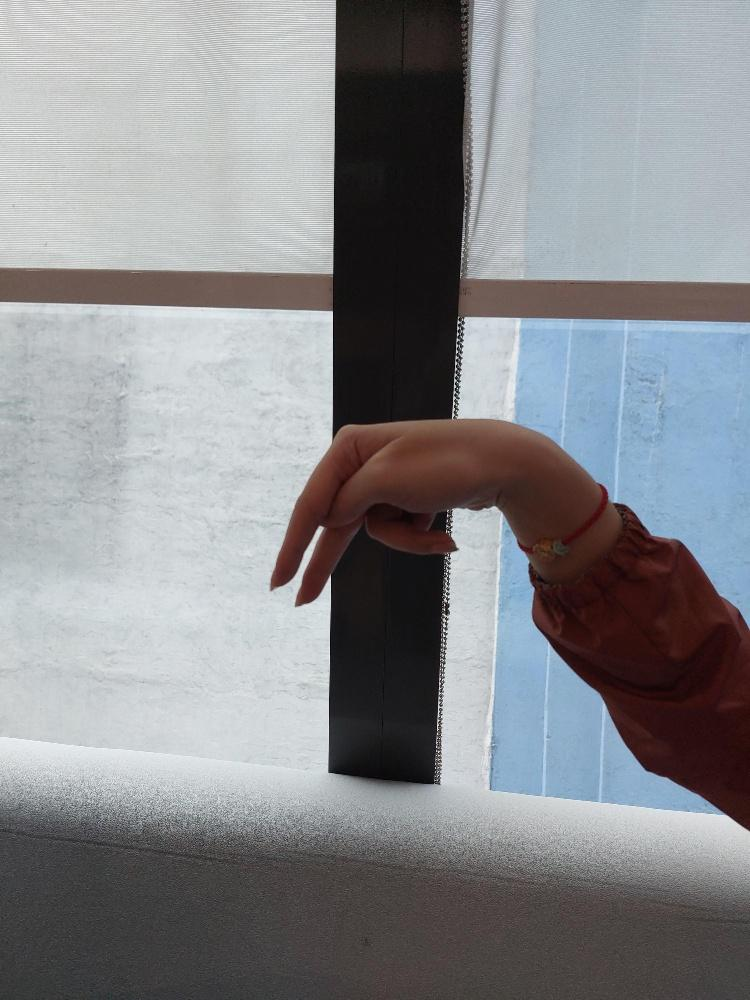p: (271, 409, 514, 604)
